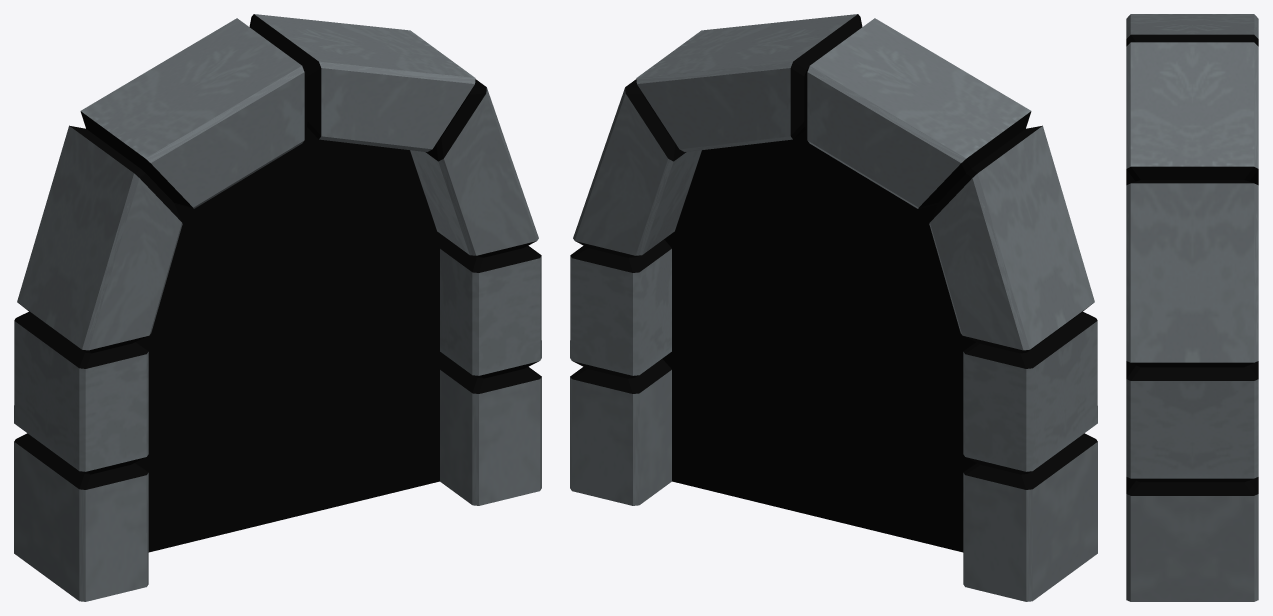
The model's file is Door.fbx.
The picture shows the model from 3 angles, left to right: view 1: azimuth 30°, elevation 25°; view 2: azimuth 150°, elevation 25°; view 3: azimuth 270°, elevation 25°; orthographic projection. The views are drawn at different scales.
Visible parts, largest first — view 1: Door; view 2: Door; view 3: Door.
Boxes of the visible parts, x1=… form: Door: x1=14, y1=14, x2=541, y2=601; Door: x1=570, y1=14, x2=1097, y2=601; Door: x1=1126, y1=14, x2=1258, y2=601.
Size of the model in its own units: 200 by 199 by 52.28.
